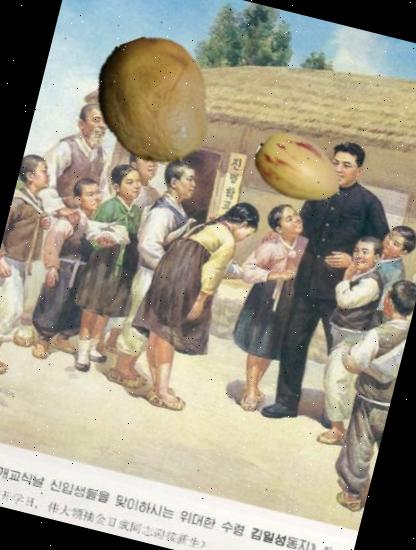Papaya: (75, 23, 234, 182)
Pepino: (243, 114, 355, 226)
